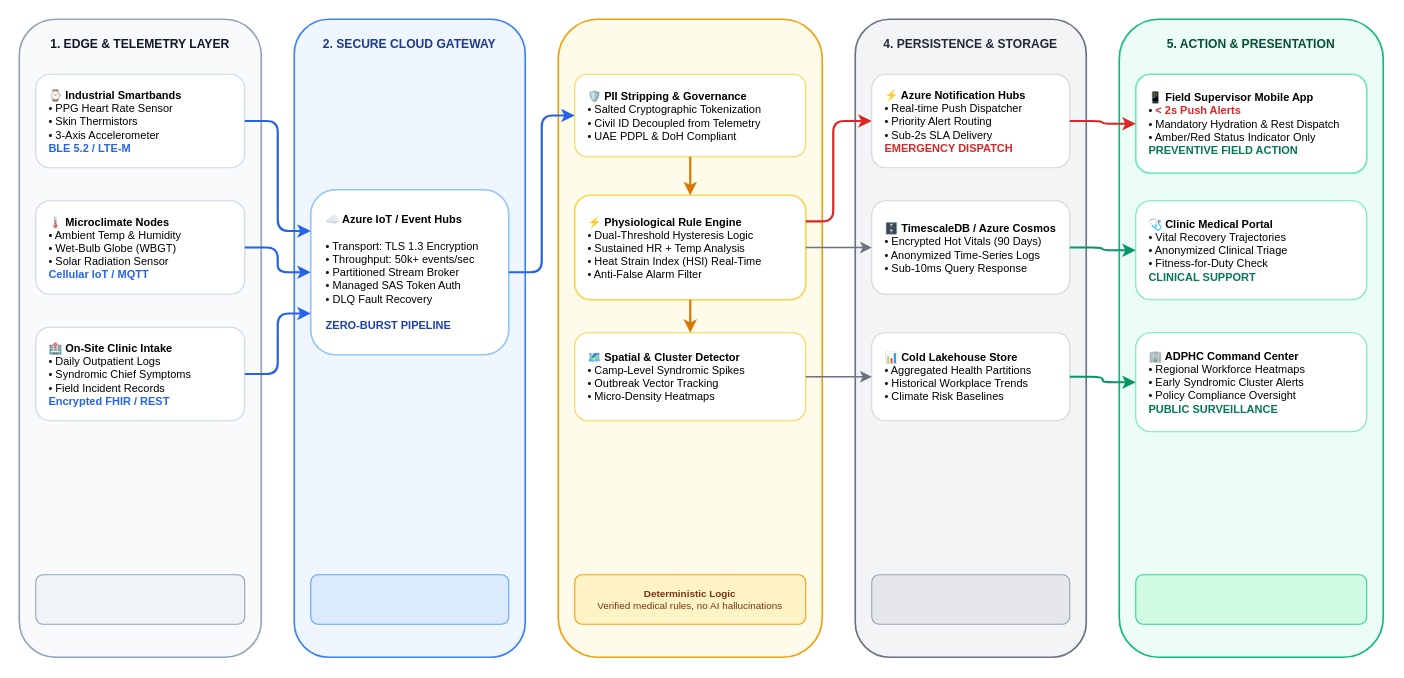
Some shapes in this 1404 by 678 pixel diagram are drawn without their labels. Here are the shapes that lost their labels. From the top down, the box of each, then its label:
(557, 18, 823, 658): 3. ANALYTICS & GOVERNANCE
(35, 574, 245, 624): COTS Hardware Agnostic Compatible with generic sensors
(310, 574, 509, 624): Zero-Trust Perimeter Token auth & mTLS encryption
(871, 574, 1070, 624): Encrypted Data at Rest AES-256 standard encryption
(1135, 574, 1367, 624): Human-in-the-Loop Advisory alerts, never auto-diagnoses
